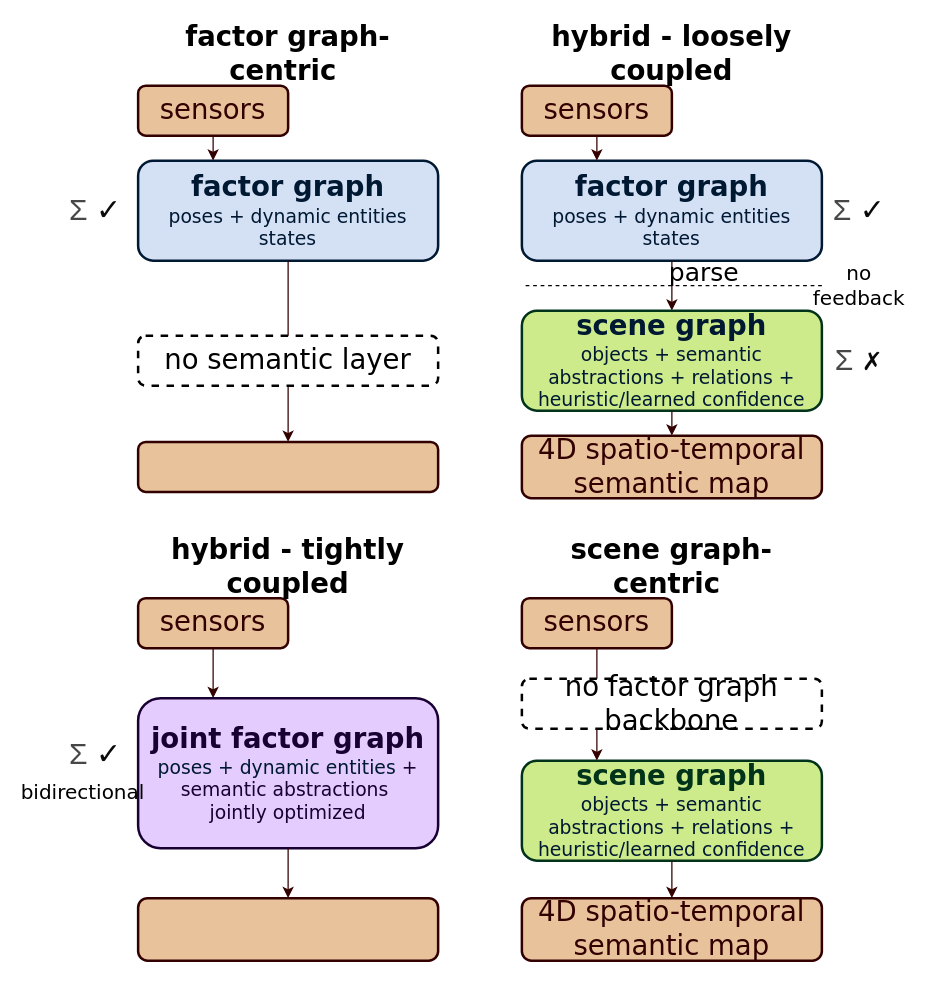
Image size: 928x984. Some labels were removed from this diagram. Each missing label, with the centre of its shape:
"4D spatio-temporal map" belongs at (287,466).
"4D spatio-temporal metric-semantic map" belongs at (287,928).
